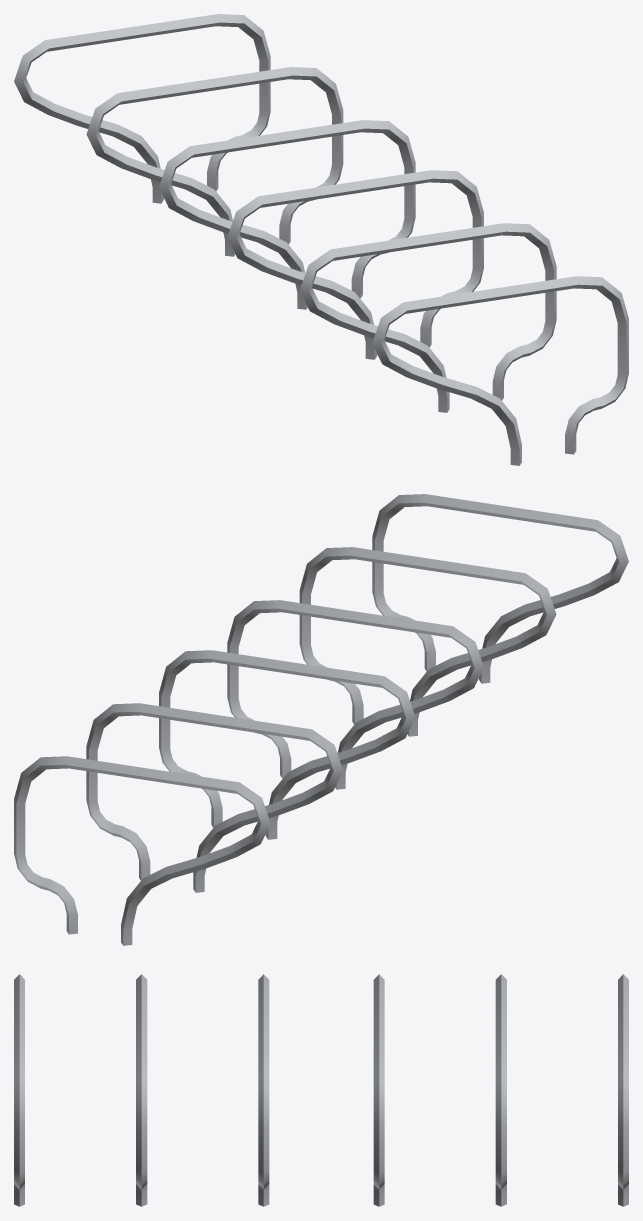
Rendered from SM_bicycle_stand.fbx.
3 views of the same model, one above another, from view 1: azimuth 30°, elevation 25°; view 2: azimuth 150°, elevation 25°; view 3: azimuth 270°, elevation 25° (orthographic). The views are drawn at different scales.
Visible parts, largest first — view 1: Line035; view 2: Line035; view 3: Line035.
Boxes of the visible parts, bbox=[...] form: Line035: bbox=[14, 14, 628, 465]; Line035: bbox=[14, 494, 628, 945]; Line035: bbox=[14, 974, 628, 1206].
Size of the model in its own units: 29.87 by 73.49 by 21.19.
